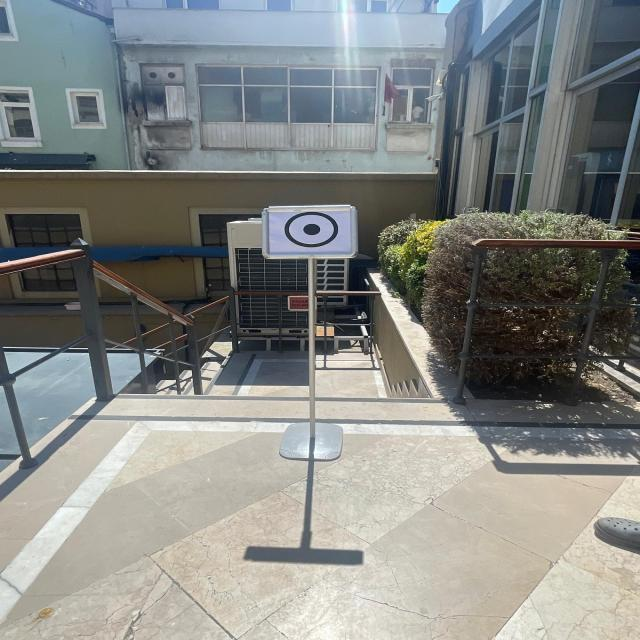Target: (246, 185, 378, 272)
inner: (298, 219, 325, 238)
